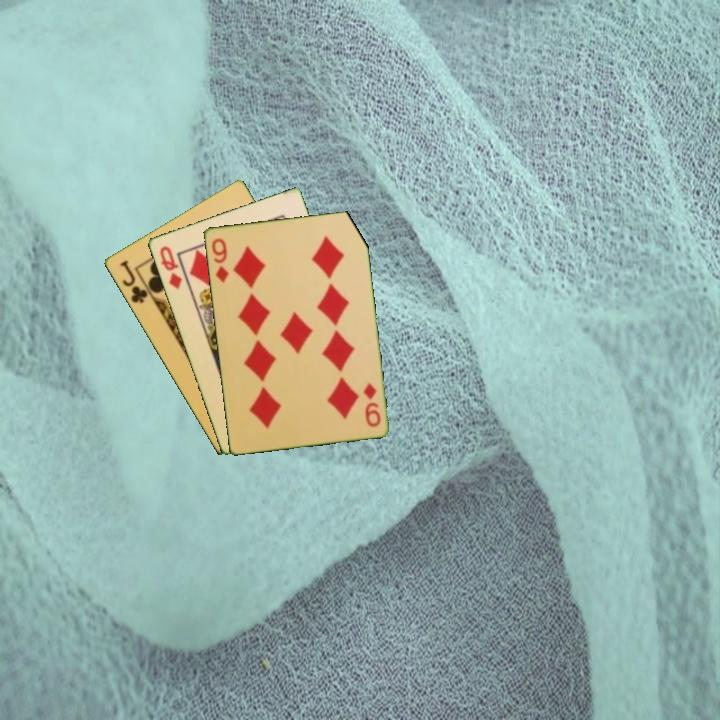9d: (359, 379, 383, 430), (208, 234, 231, 286)
Jc: (116, 257, 155, 306)
Qd: (156, 242, 184, 292)
